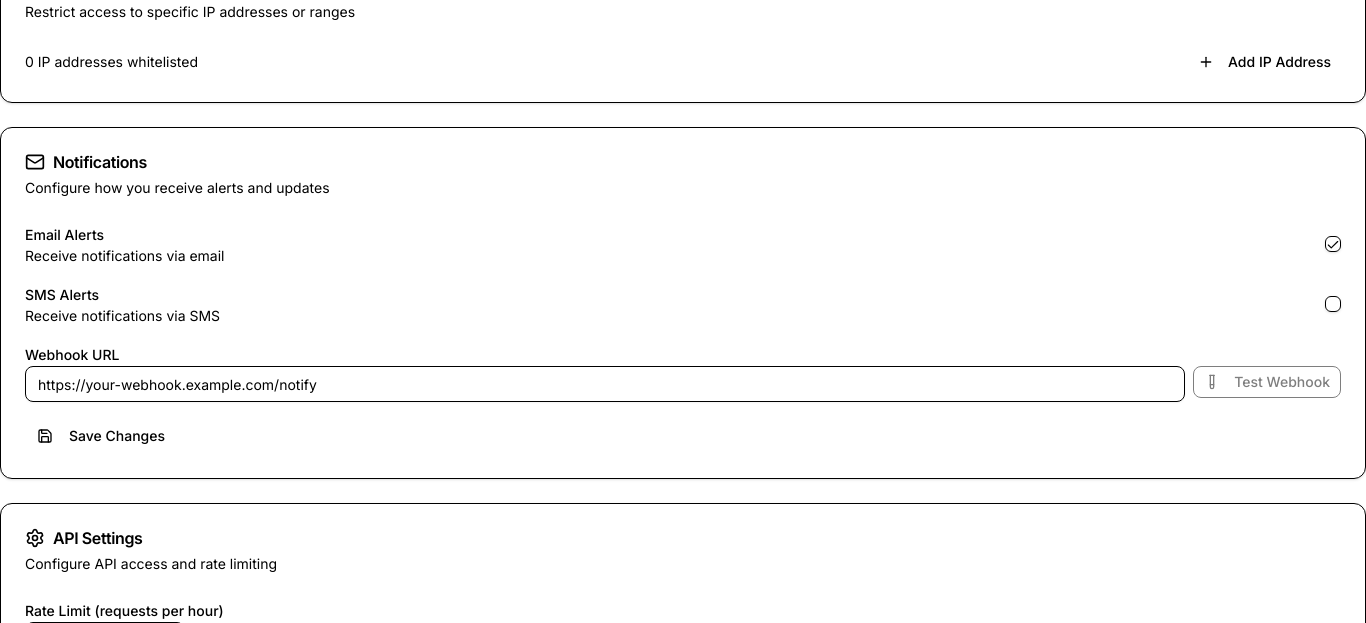
Test: OrganizationSettings › Notification Preferences › should test webhook
(page scrolled)
Type "https://webhook.example.com/notify" into the field labelled "Webhook URL" at (605, 384), box [25, 366, 1185, 402]
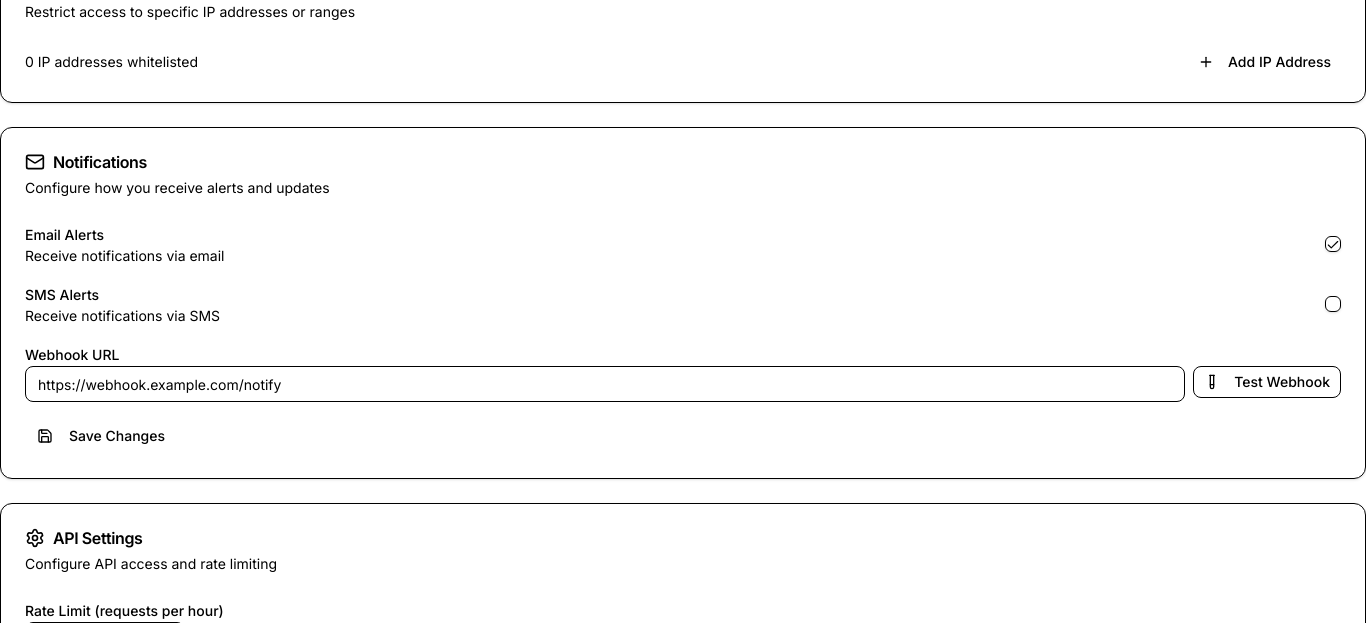
Click the button "Test Webhook" at (1267, 382), box [1193, 366, 1341, 398]
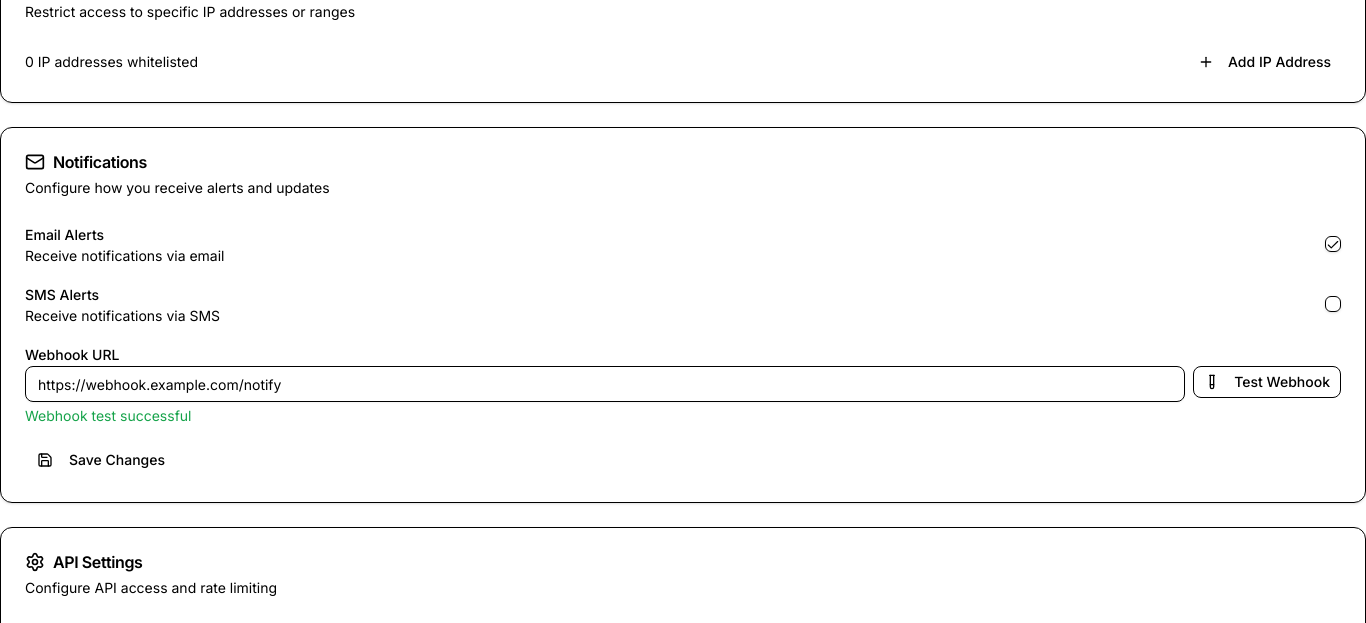
expect the text "Webhook test successful" is shown: met, box [25, 407, 192, 424]
